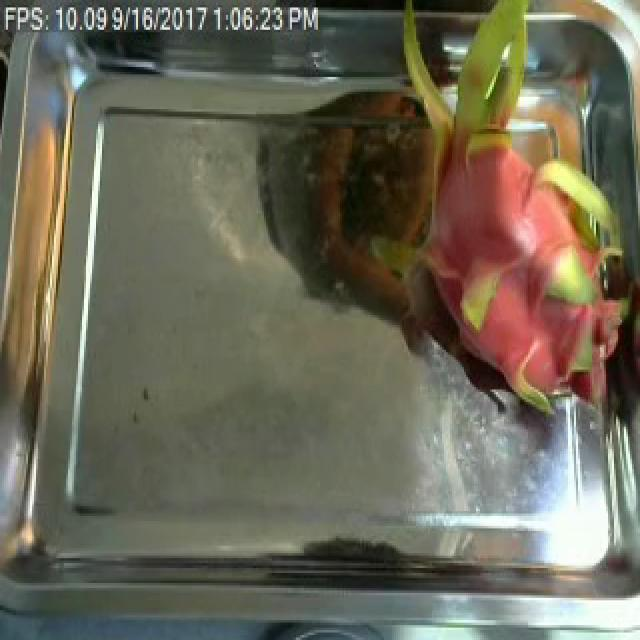fruit: (384, 5, 640, 432)
